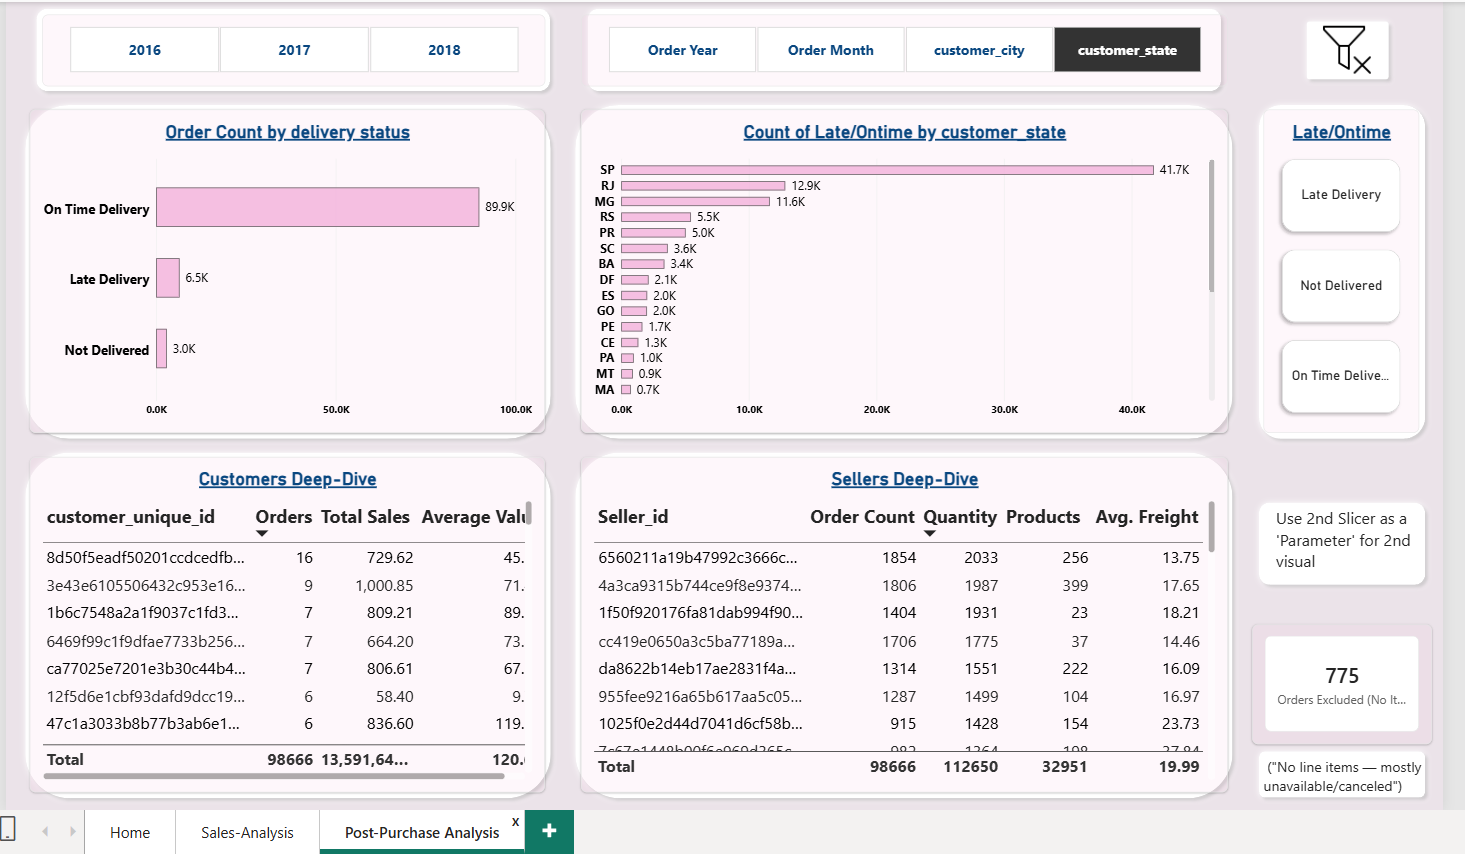

Layout of this report page (visuals, bound fields, positions):
{"tool":"powerbi","page":{"name":"Post-Purchase Analysis","canvas":[1920,1080],"ordinal":2},"visuals":[{"type":"shape","box":[752,128,896,464],"z":0},{"type":"shape","box":[16,128,720,464],"z":1000},{"type":"shape","box":[768,0,864,128],"z":2000},{"type":"shape","box":[16,592,720,480],"z":3000},{"type":"shape","box":[752,592,896,480],"z":4000},{"type":"barChart","fields":{"Category":["customers.customer_state"],"Y":["CountNonNull(orders.Late/Ontime)"]},"box":[768,144,864,432],"z":5000},{"type":"shape","box":[1664,128,240,464],"z":6000},{"type":"slicer","fields":{"Values":["Late/time Categorization.Late/time Categorization"]},"box":[768,16,864,96],"z":7000},{"type":"advancedSlicerVisual","fields":{"Values":["orders.Late/Ontime"]},"box":[1680,144,208,432],"z":8000},{"type":"barChart","title":"Order Count by delivery status","fields":{"Category":["orders.Late/Ontime"],"Y":["Count(orders.order_id)"]},"box":[32,144,688,432],"z":9000},{"type":"tableEx","title":"Sellers Deep-Dive","fields":{"Values":["sellers.seller_id","order_items.order_id","CountNonNull(order_items.order_item_id)","order_items.product_id","Avg(order_items.freight_value)"]},"box":[768,608,864,448],"z":10000},{"type":"actionButton","box":[1728,16,128,96],"z":11000},{"type":"image","box":[1744,32,96,64],"z":12000},{"type":"tableEx","title":"Customers Deep-Dive","fields":{"Values":["orders.customer_unique_id","order_items.order_id","order_items.Total Sales","Avg(order_items.price)"]},"box":[32,608,688,448],"z":13000},{"type":"shape","box":[32,0,704,128],"z":14000},{"type":"shape","box":[1664,659,240,128],"z":14500},{"type":"cardVisual","fields":{"Data":["order_items.Orders Excluded (No Items)"]},"box":[1664,832,240,160],"z":15000},{"type":"shape","box":[1664,992,240,80],"z":16000},{"type":"textbox","box":[1680,1008,224,64],"z":17000},{"type":"slicer","fields":{"Values":["calendar table.Order Year"]},"box":[48,16,672,96],"z":18000},{"type":"textbox","box":[1696,675,192,96],"z":19000}]}

Visuals, with their boxes on the page's 1920x1080 design canvas (x1, y1, x2, y2). These are canvas units, not pixel positions in the 1465x854 screenshot, which may show the page scaled, cropped or inside an application window:
shape: [752, 128, 1648, 592]
shape: [16, 128, 736, 592]
shape: [768, 0, 1632, 128]
shape: [16, 592, 736, 1072]
shape: [752, 592, 1648, 1072]
barChart - customers.customer_state x CountNonNull(orders.Late/Ontime): [768, 144, 1632, 576]
shape: [1664, 128, 1904, 592]
slicer - Late/time Categorization.Late/time Categorization: [768, 16, 1632, 112]
advancedSlicerVisual - orders.Late/Ontime: [1680, 144, 1888, 576]
"Order Count by delivery status" barChart: [32, 144, 720, 576]
"Sellers Deep-Dive" tableEx: [768, 608, 1632, 1056]
actionButton: [1728, 16, 1856, 112]
image: [1744, 32, 1840, 96]
"Customers Deep-Dive" tableEx: [32, 608, 720, 1056]
shape: [32, 0, 736, 128]
shape: [1664, 659, 1904, 787]
cardVisual - order_items.Orders Excluded (No Items): [1664, 832, 1904, 992]
shape: [1664, 992, 1904, 1072]
textbox: [1680, 1008, 1904, 1072]
slicer - calendar table.Order Year: [48, 16, 720, 112]
textbox: [1696, 675, 1888, 771]
